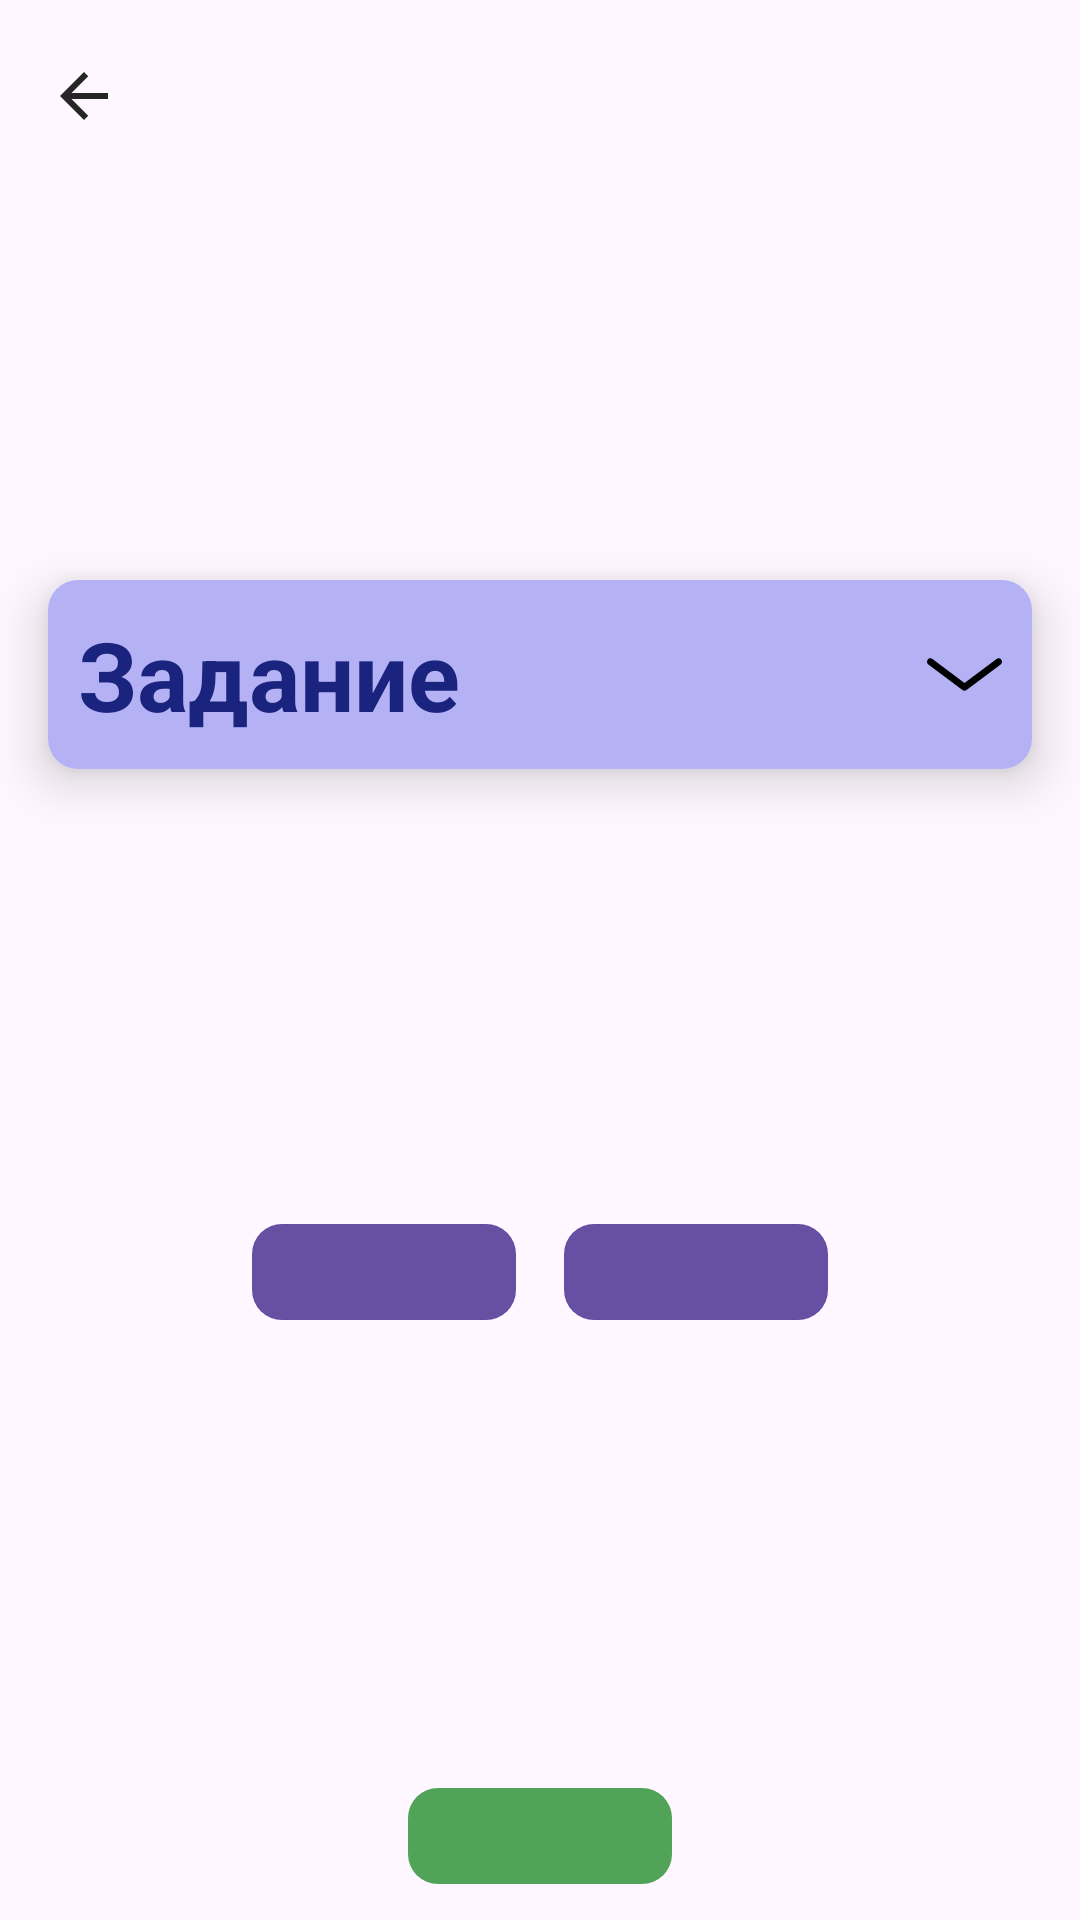

Screen size 1080 × 1920. Icon name, then its center in pixels as [x,y]:
arrow expand: [964,674]
